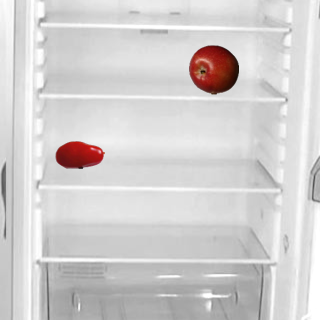Apple Braeburn: (188, 44, 238, 94)
Tomato 2: (54, 129, 104, 179)
